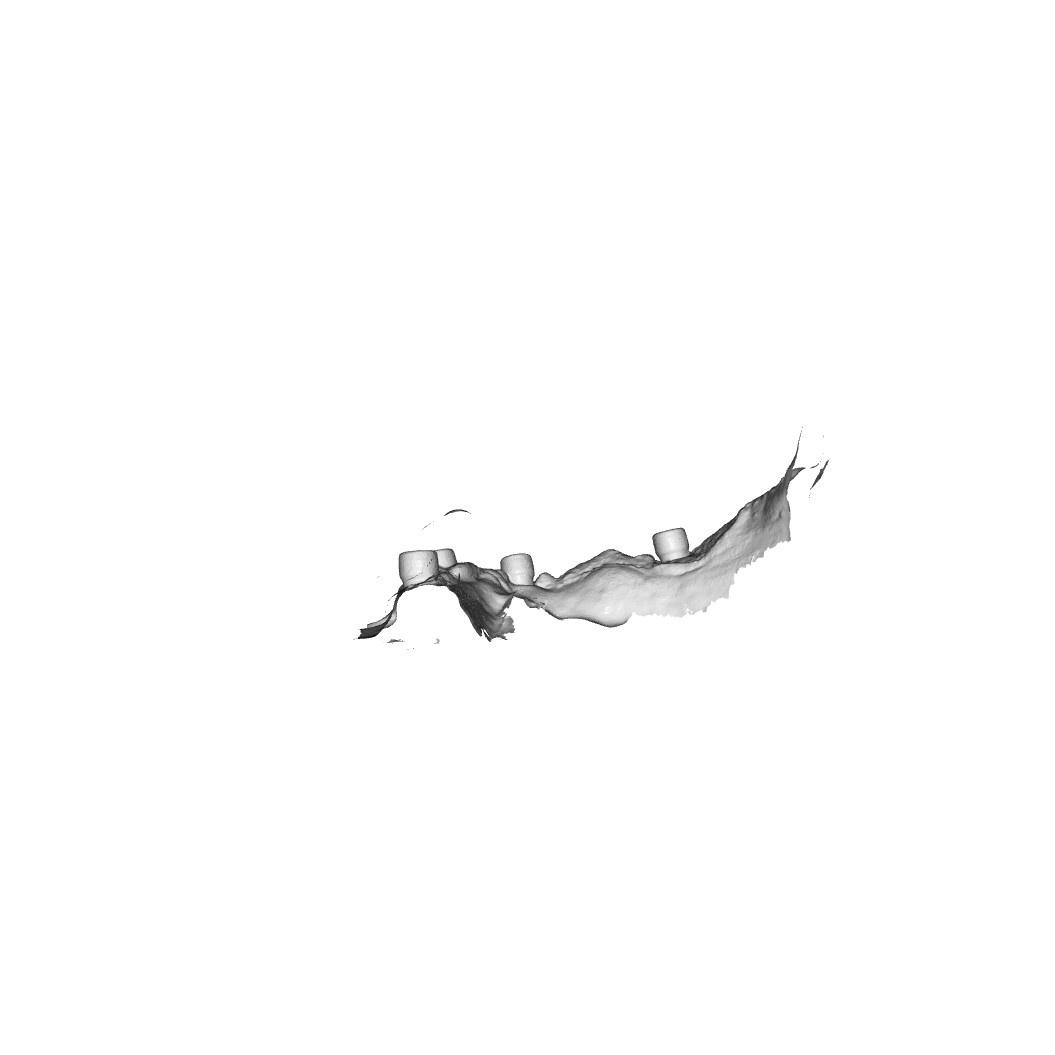implant: (649, 521, 697, 573), (391, 546, 439, 597), (494, 547, 543, 593), (435, 542, 461, 573)
